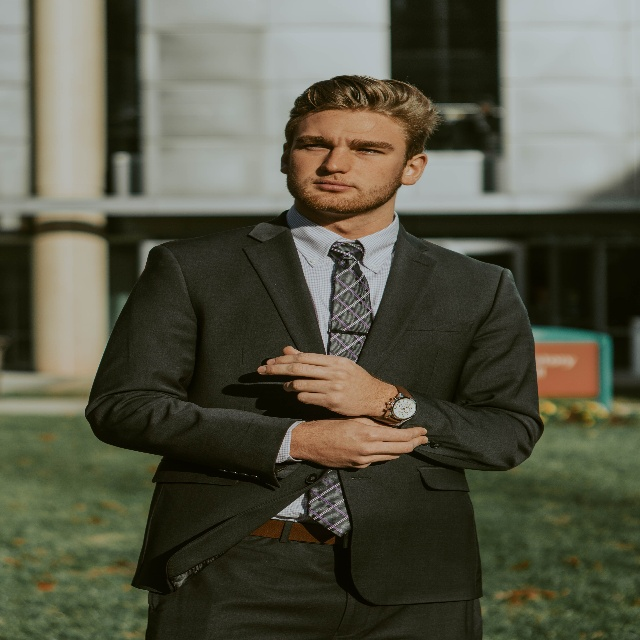Sin_guantes: (257, 344, 379, 420), (293, 416, 428, 470)
